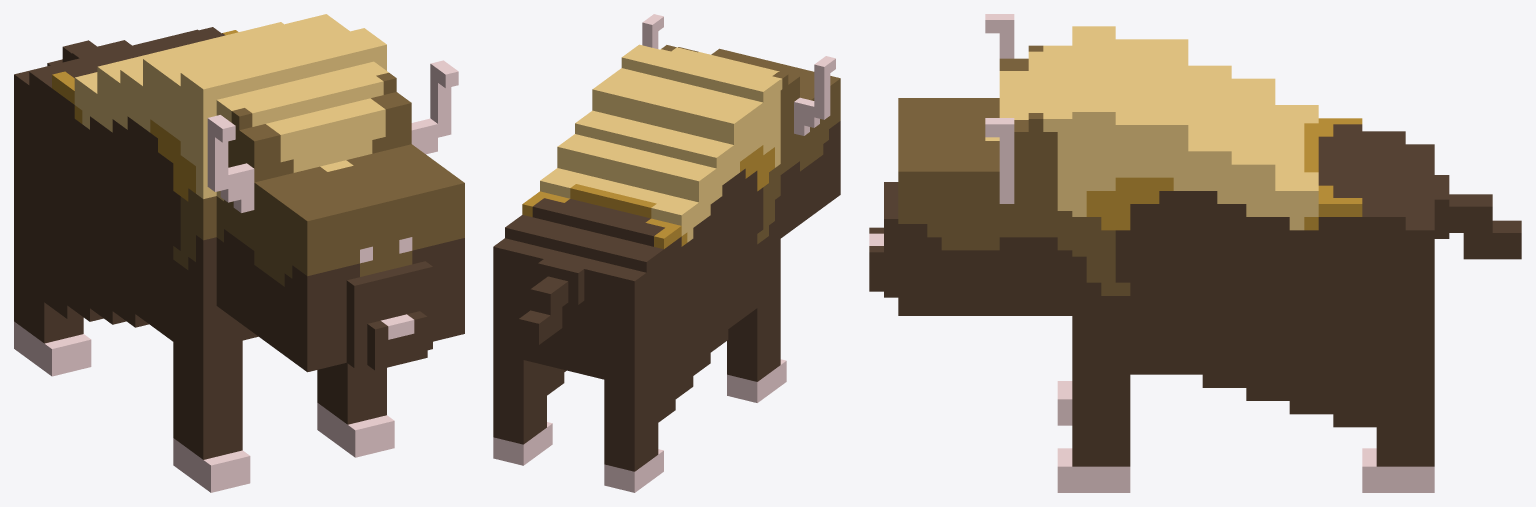
Rendered from Bison.obj.
The picture shows the model from 3 angles, left to right: view 1: azimuth 30°, elevation 25°; view 2: azimuth 150°, elevation 25°; view 3: azimuth 270°, elevation 25°; orthographic projection. The views are drawn at different scales.
Visible parts, largest first — view 1: Bison; view 2: Bison; view 3: Bison.
Part boxes in pixels (left/top/right/bottom): Bison: left=14, top=14, right=464, bottom=492; Bison: left=493, top=14, right=840, bottom=492; Bison: left=869, top=14, right=1521, bottom=492.
Size of the model in its own units: 18 by 29 by 45.
Materials: 1 (1 with a texture image).
